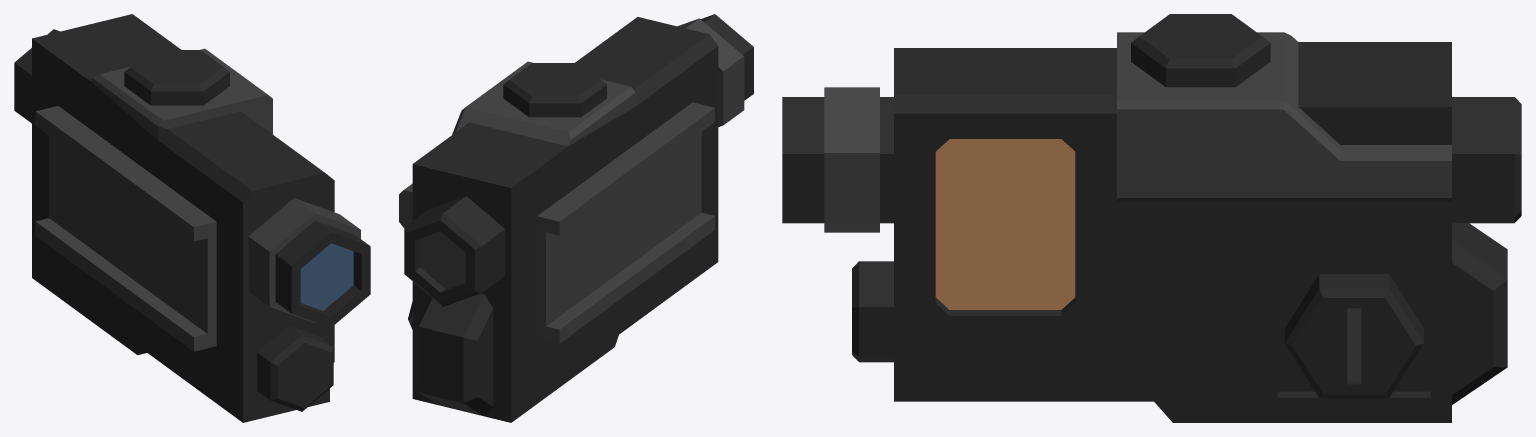
File: Laser_B_Left.fbx
The picture shows the model from 3 angles, left to right: view 1: azimuth 30°, elevation 25°; view 2: azimuth 150°, elevation 25°; view 3: azimuth 270°, elevation 25°; orthographic projection. The views are drawn at different scales.
Visible parts, largest first — view 1: Laser_B_Left; view 2: Laser_B_Left; view 3: Laser_B_Left.
Boxes of the visible parts, x1,y1,x2,y2 form: Laser_B_Left: (14, 14, 370, 422); Laser_B_Left: (399, 14, 753, 422); Laser_B_Left: (782, 14, 1521, 422).
Bounding box in the file's own units: 0.0387 × 0.07 × 0.1325.
